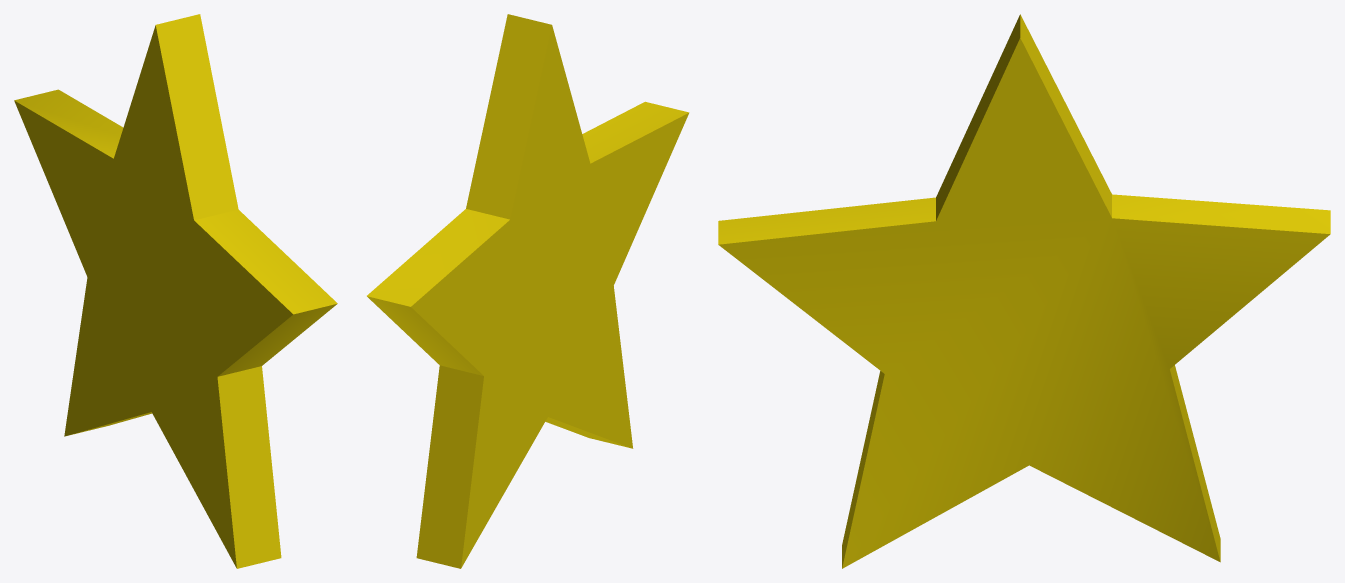
File: yellowstar.fbx
The picture shows the model from 3 angles, left to right: view 1: azimuth 30°, elevation 25°; view 2: azimuth 150°, elevation 25°; view 3: azimuth 270°, elevation 25°; orthographic projection. The views are drawn at different scales.
Parts seen in each view (by area): view 1: Circle; view 2: Circle; view 3: Circle.
Part boxes in pixels (x1=…): Circle: x1=14, y1=14, x2=337, y2=568; Circle: x1=367, y1=14, x2=689, y2=568; Circle: x1=718, y1=14, x2=1330, y2=568.
Size of the model in its own units: 17.5 by 182 by 190.
